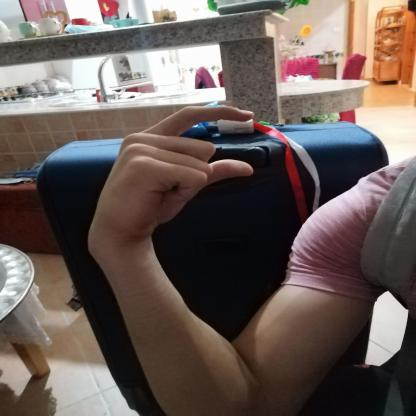DELL: (83, 97, 268, 250)
